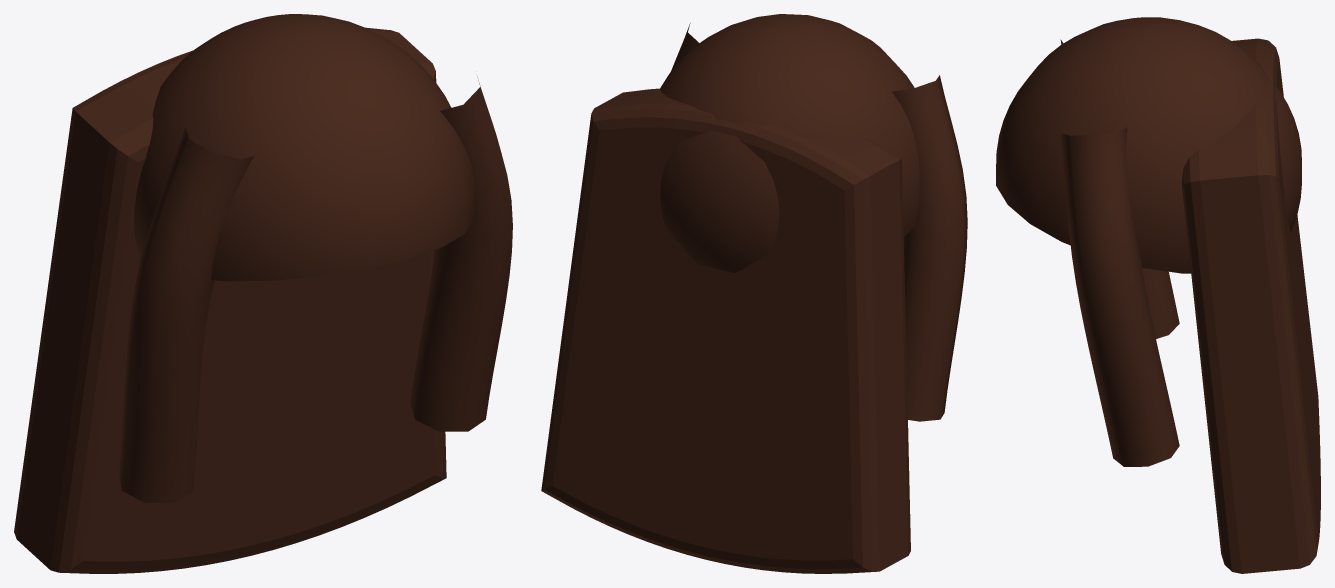
File: long.glb
3 renders of one model, left to right at view 1: azimuth 30°, elevation 25°; view 2: azimuth 150°, elevation 25°; view 3: azimuth 270°, elevation 25°, orthographic. The views are drawn at different scales.
Visible parts, largest first — view 1: long_back_flow, hair_cap, long_side_-1, long_side_1; view 2: long_back_flow, hair_cap, long_side_-1; view 3: long_back_flow, hair_cap, long_side_1, long_side_-1.
Boxes of the visible parts, x1=… form: long_back_flow: x1=14, y1=27, x2=446, y2=573; hair_cap: x1=134, y1=14, x2=474, y2=281; long_side_-1: x1=119, y1=127, x2=253, y2=503; long_side_1: x1=410, y1=77, x2=512, y2=431; long_back_flow: x1=541, y1=88, x2=910, y2=573; hair_cap: x1=660, y1=14, x2=919, y2=272; long_side_-1: x1=892, y1=75, x2=967, y2=421; long_back_flow: x1=1182, y1=38, x2=1320, y2=573; hair_cap: x1=996, y1=17, x2=1301, y2=273; long_side_1: x1=1060, y1=127, x2=1179, y2=466; long_side_-1: x1=1060, y1=39, x2=1179, y2=338.
Bounding box in the file's own units: 0.302 × 0.4133 × 0.2493.
